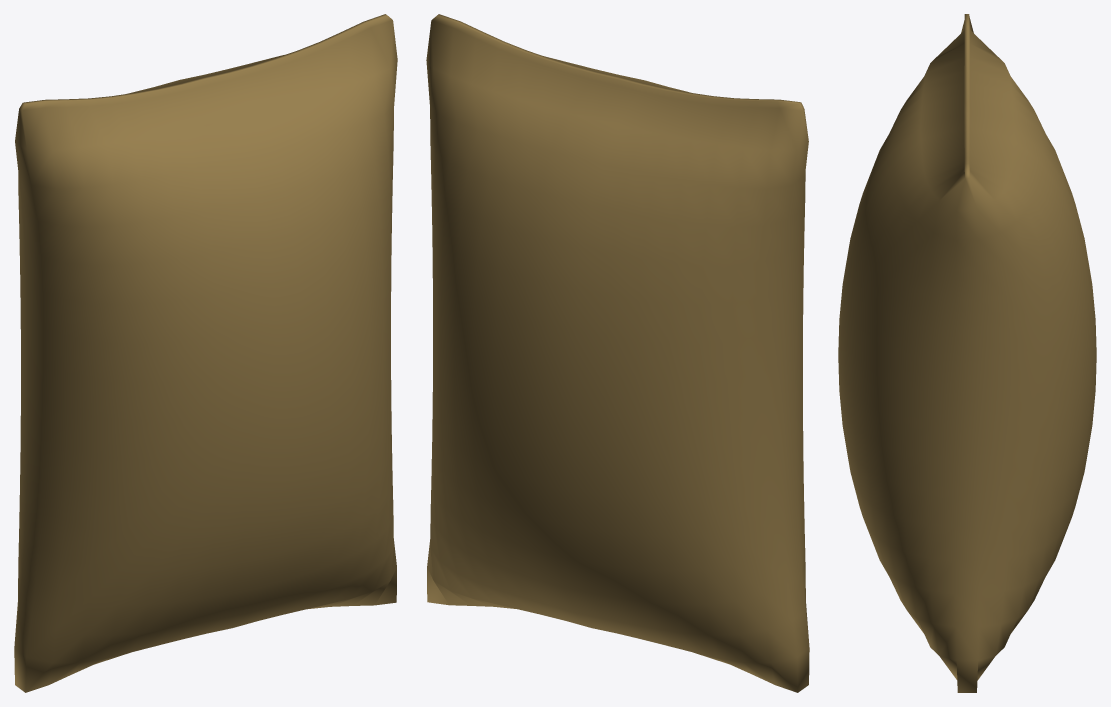
The model's file is karung.fbx.
3 renders of one model, left to right at view 1: azimuth 30°, elevation 25°; view 2: azimuth 150°, elevation 25°; view 3: azimuth 270°, elevation 25°, orthographic. The views are drawn at different scales.
Visible parts, largest first — view 1: karung; view 2: karung; view 3: karung.
Boxes of the visible parts, x1=… form: karung: x1=14, y1=14, x2=397, y2=692; karung: x1=426, y1=14, x2=809, y2=692; karung: x1=838, y1=14, x2=1096, y2=692.
Size of the model in its own units: 3217 by 4840 by 2182.
